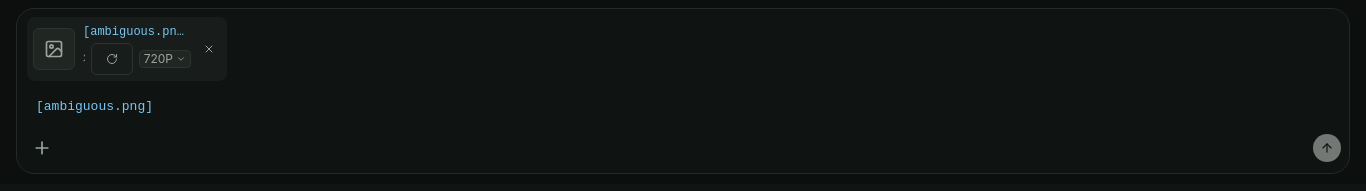
Test case: ThreadComposer and commands › ThreadComposer attachment draft recovery › restores complete_unknown attachment on reload and retries complete with same uploadId via retry button
Expected: the text "状态未知，可重试" is shown, [83,50,85,68]
Click the button named "重试完成 ambiguous.png". click: (112, 59)
box: [91,43,133,75]
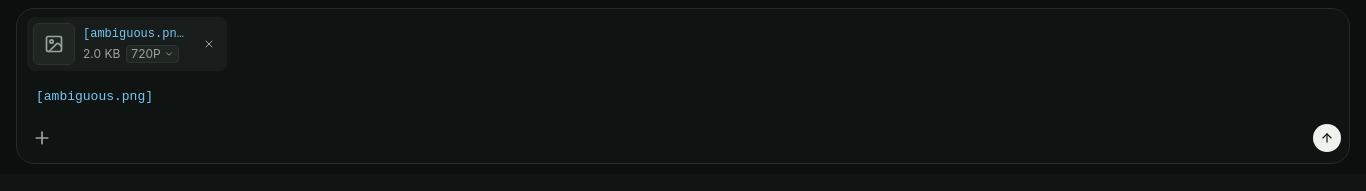
Now the text "2.0 KB" is shown, box [83,45,120,63]
